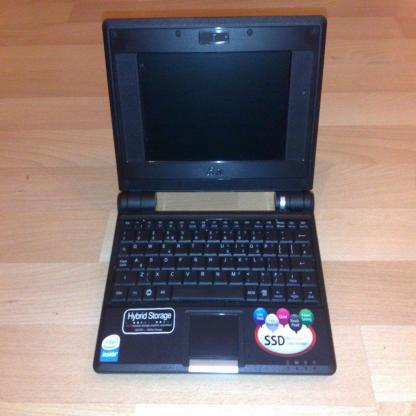board: (86, 6, 345, 374)
